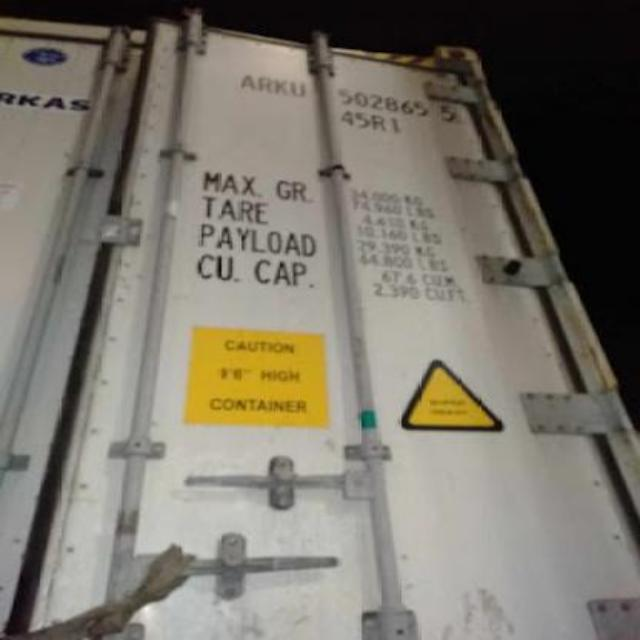0: (354, 92, 370, 112)
2: (367, 92, 388, 112)
5: (438, 103, 459, 127), (336, 87, 354, 107), (414, 98, 430, 120)
6: (396, 99, 414, 117)
8: (384, 94, 402, 114)
A: (232, 73, 256, 93)
K: (272, 76, 294, 96)
R: (259, 74, 275, 96)
U: (290, 81, 308, 99)
